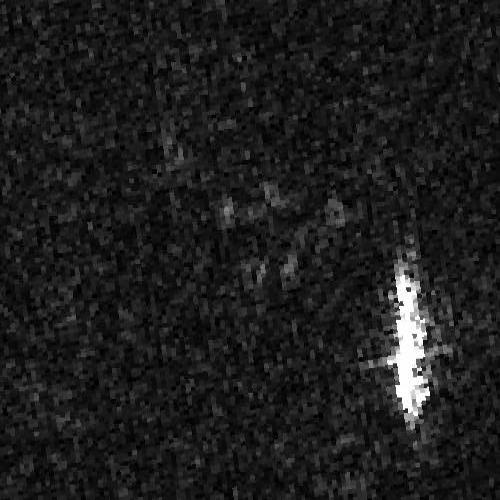ship: (393, 260, 428, 424)
